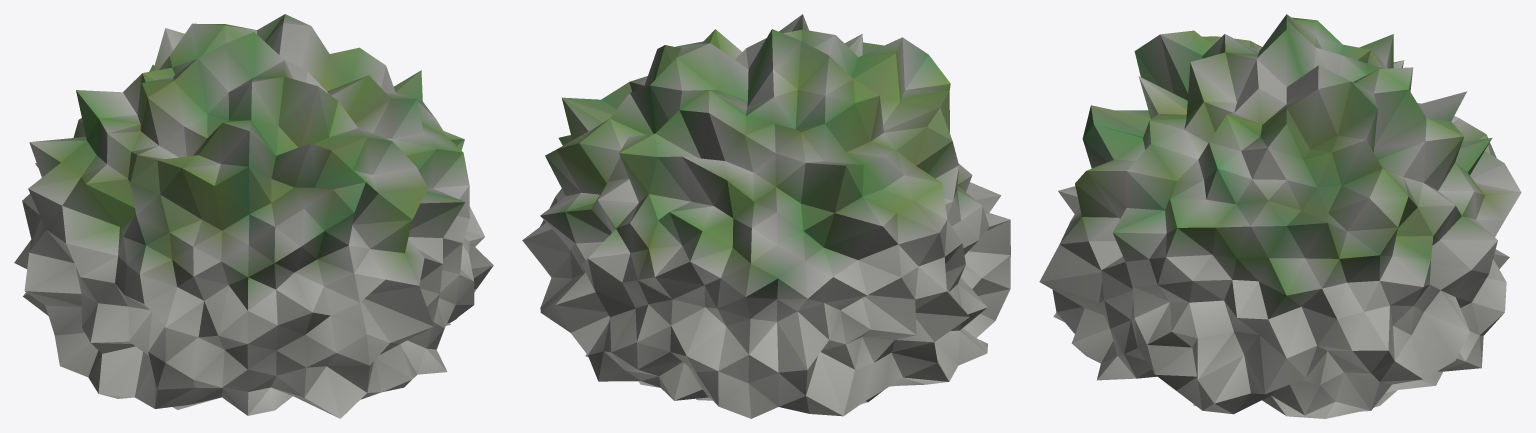
File: rock_1.glb
3 renders of one model, left to right at view 1: azimuth 30°, elevation 25°; view 2: azimuth 150°, elevation 25°; view 3: azimuth 270°, elevation 25°, orthographic.
Parts seen in each view (by area): view 1: world; view 2: world; view 3: world.
Boxes of the visible parts, x1,y1,x2,y2 form: world: (14,14,493,418); world: (522,14,1010,418); world: (1039,14,1521,418).
Bounding box in the file's own units: 0.9504 × 0.6213 × 0.9009.
